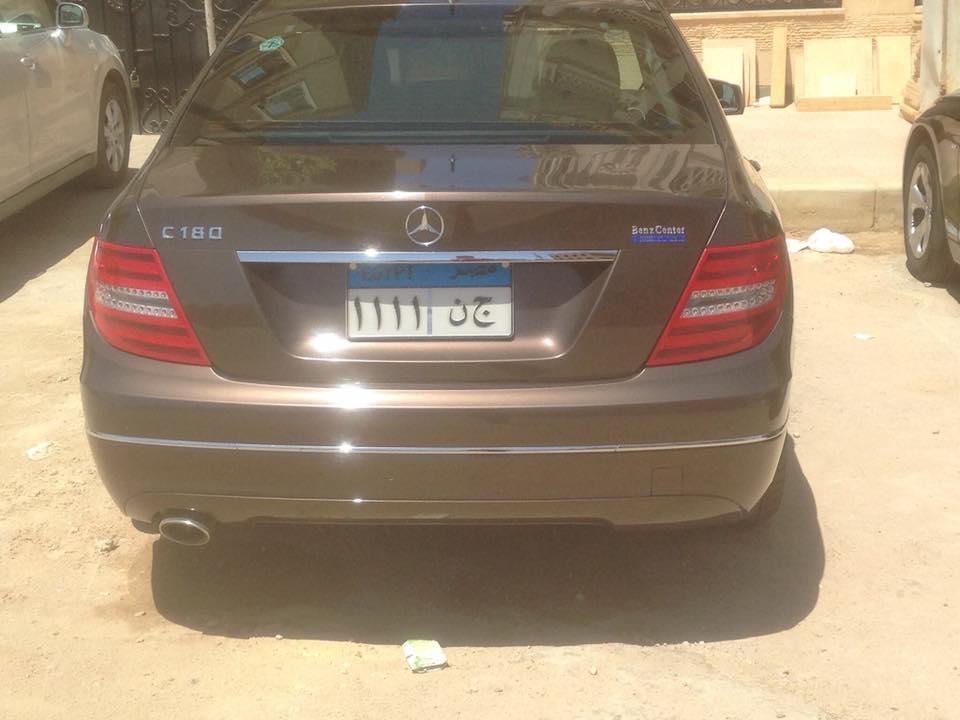1: (388, 293, 406, 334), (350, 295, 367, 333), (408, 294, 424, 333), (369, 294, 384, 332)
License Plate: (343, 263, 515, 342)
Noon: (445, 295, 470, 330)
car: (86, 4, 797, 578), (0, 0, 140, 218), (898, 73, 960, 293)
geem: (469, 291, 497, 332)
